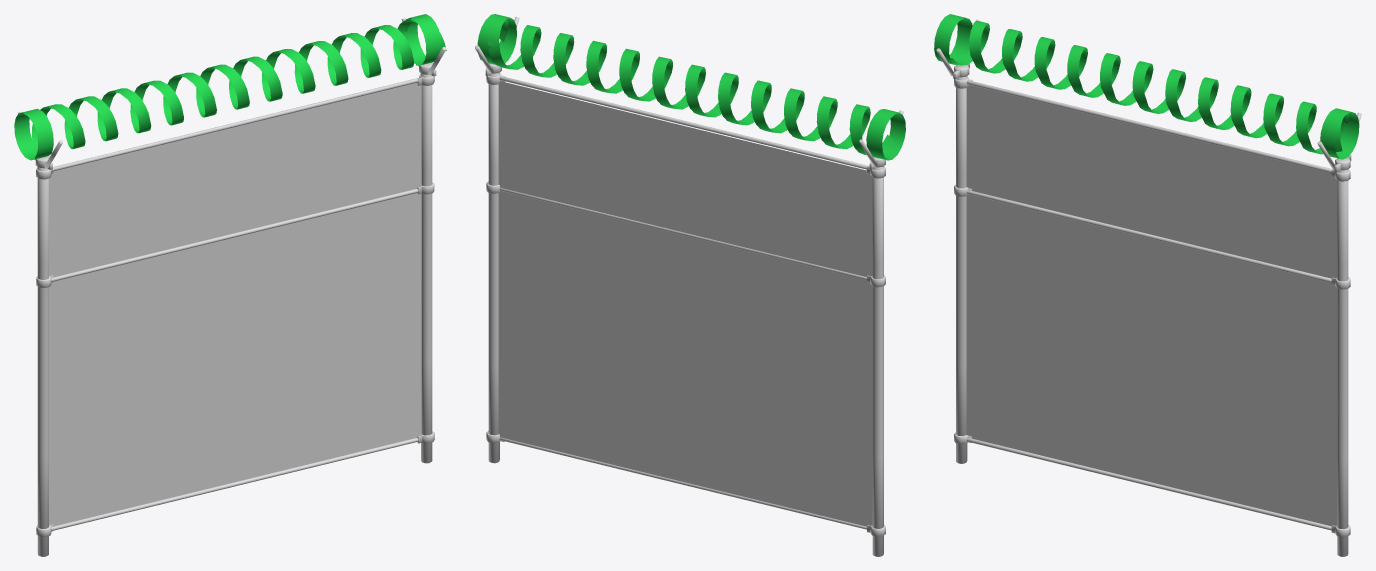
File: WireFence.fbx
3 renders of one model, left to right at view 1: azimuth 30°, elevation 25°; view 2: azimuth 150°, elevation 25°; view 3: azimuth 330°, elevation 25°, orthographic.
Parts seen in each view (by area): view 1: WireFence_L; view 2: WireFence_L; view 3: WireFence_L.
Part boxes in pixels (x1,y1,x2,y2): WireFence_L: [14, 14, 446, 556]; WireFence_L: [475, 14, 905, 556]; WireFence_L: [934, 14, 1361, 556].
Size of the model in its own units: 2.59 by 2.68 by 0.4647.
